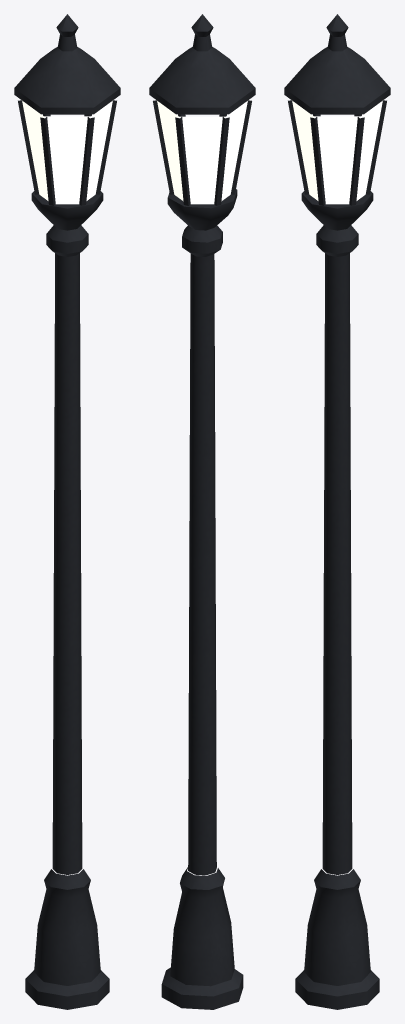
The model's file is lamp_post_lantern.gltf.
3 views of the same model, side by side, from view 1: azimuth 90°, elevation 25°; view 2: azimuth 150°, elevation 25°; view 3: azimuth 270°, elevation 25° (orthographic).
Visible parts, largest first — view 1: lamp_post_lantern; view 2: lamp_post_lantern; view 3: lamp_post_lantern.
Part boxes in pixels (left/top/right/bottom): lamp_post_lantern: left=14, top=14, right=120, bottom=1009; lamp_post_lantern: left=149, top=14, right=255, bottom=1009; lamp_post_lantern: left=284, top=14, right=390, bottom=1009.
Size of the model in its own units: 0.4282 by 5.01 by 0.4945.
Materials: 2 (1 with a texture image).
